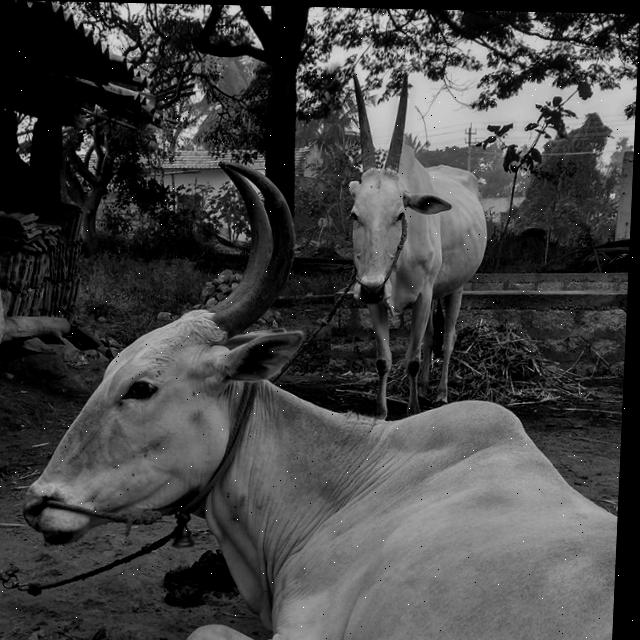Cow: (15, 155, 632, 640)
